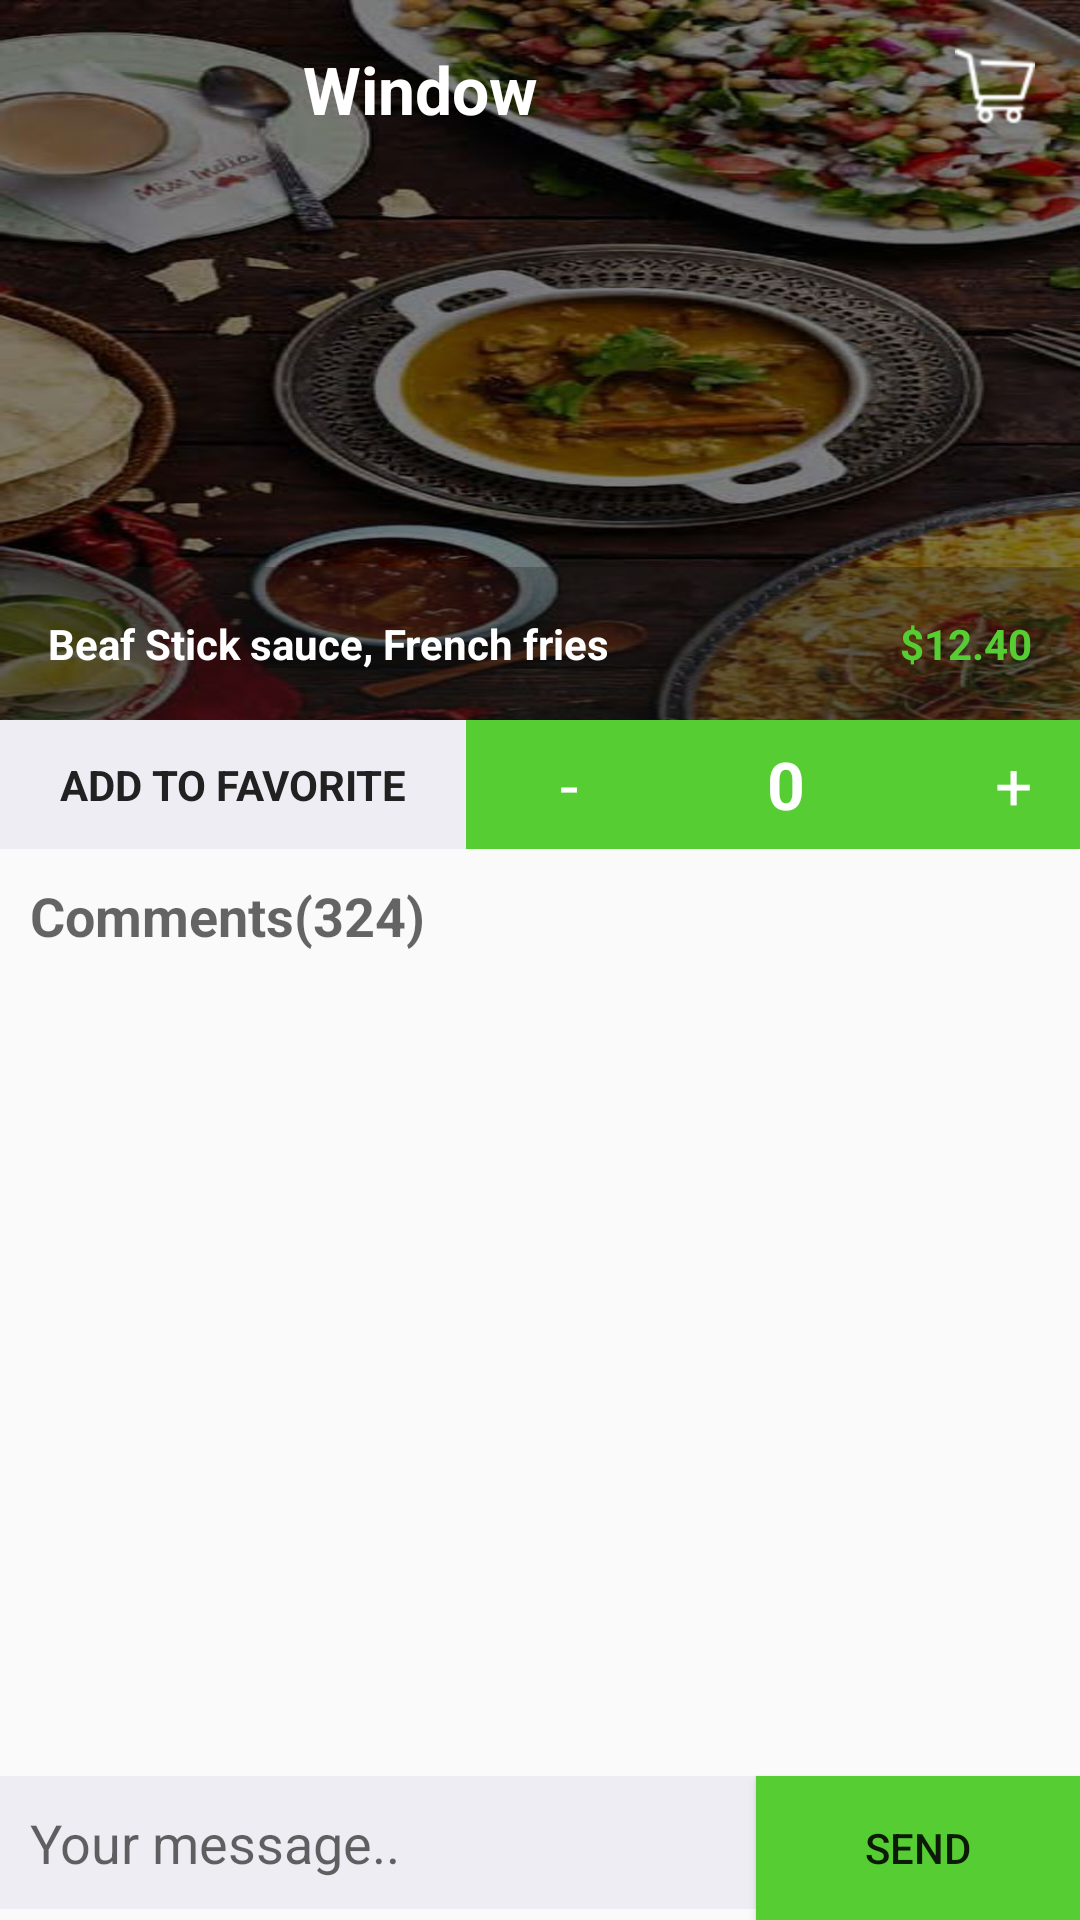

Where to tap for icons on this 1080px×1920px app screen, as (x,y):
mycart: (995,85)
